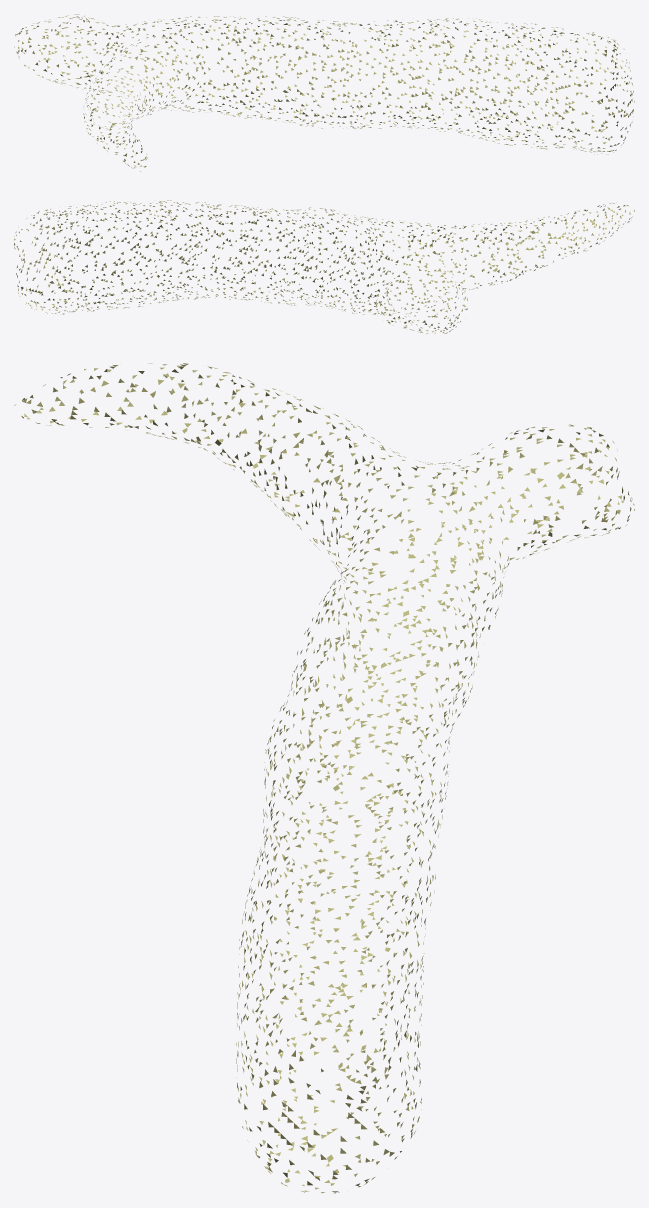
File: morph_009.glb
The picture shows the model from 3 angles, top to bottom: view 1: azimuth 30°, elevation 25°; view 2: azimuth 150°, elevation 25°; view 3: azimuth 270°, elevation 25°; orthographic projection. The views are drawn at different scales.
Bounding box in the file's own units: 132 × 44.47 × 68.83.
